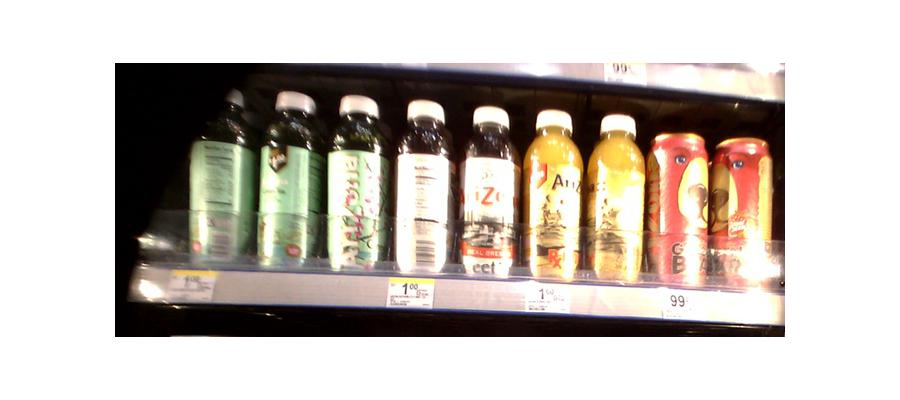bottle: (186, 83, 252, 265), (391, 99, 454, 276), (258, 89, 319, 266), (326, 93, 386, 272), (524, 109, 582, 284), (587, 112, 646, 284), (460, 108, 517, 278), (648, 131, 709, 285), (713, 140, 772, 290)
